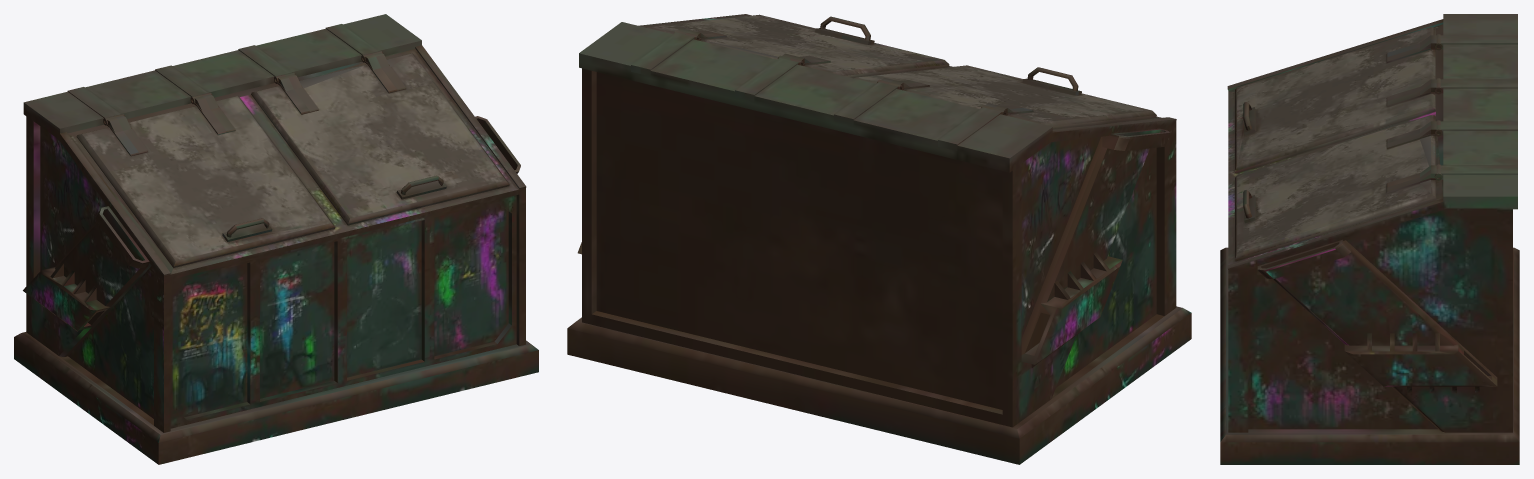
The model's file is dumpster.gltf.
3 views of the same model, side by side, from view 1: azimuth 30°, elevation 25°; view 2: azimuth 150°, elevation 25°; view 3: azimuth 270°, elevation 25° (orthographic). The views are drawn at different scales.
Parts seen in each view (by area): view 1: dumpster; view 2: dumpster; view 3: dumpster.
Boxes of the visible parts, bbox=[...] form: dumpster: bbox=[14, 14, 538, 464]; dumpster: bbox=[567, 14, 1191, 464]; dumpster: bbox=[1220, 14, 1519, 464].
Size of the model in its own units: 2.06 by 1.3 by 1.33.
Materials: 1 (1 with a texture image).
